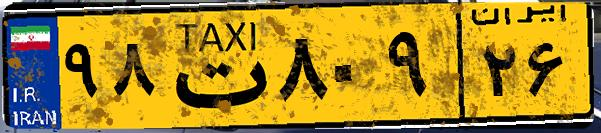0: (330, 28, 385, 110)
2: (475, 38, 525, 113)
6: (525, 38, 570, 115)
8: (270, 28, 330, 110), (110, 28, 158, 98)
9: (385, 28, 445, 110), (57, 26, 110, 100)
ت: (158, 12, 270, 120)
